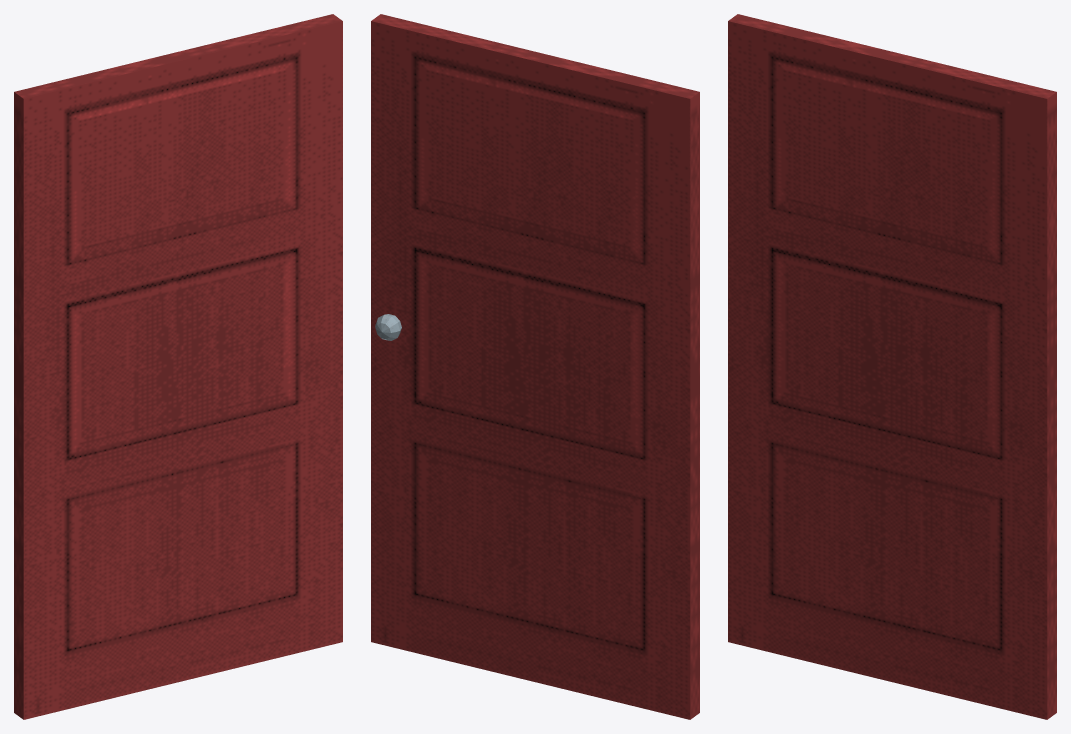
File: door_11.glb
3 renders of one model, left to right at view 1: azimuth 30°, elevation 25°; view 2: azimuth 150°, elevation 25°; view 3: azimuth 330°, elevation 25°, orthographic.
Visible parts, largest first — view 1: polySurface43.001; view 2: polySurface43.001; view 3: polySurface43.001.
Boxes of the visible parts, bbox=[...] form: polySurface43.001: bbox=[14, 14, 342, 719]; polySurface43.001: bbox=[371, 14, 699, 719]; polySurface43.001: bbox=[728, 14, 1056, 719].
Size of the model in its own units: 1.13 by 2.1 by 0.1274.
Materials: 2 (2 with a texture image).
